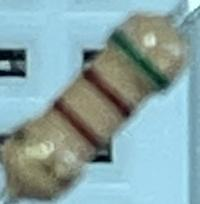Brown: (53, 97, 107, 150), (83, 68, 135, 119)
Green: (110, 32, 171, 91)
Side-Gold: (13, 128, 79, 192)
